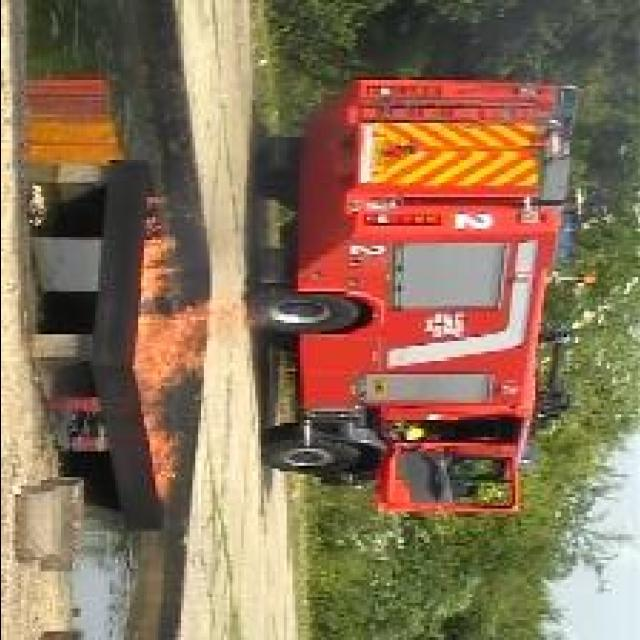Fire: (133, 197, 267, 500)
